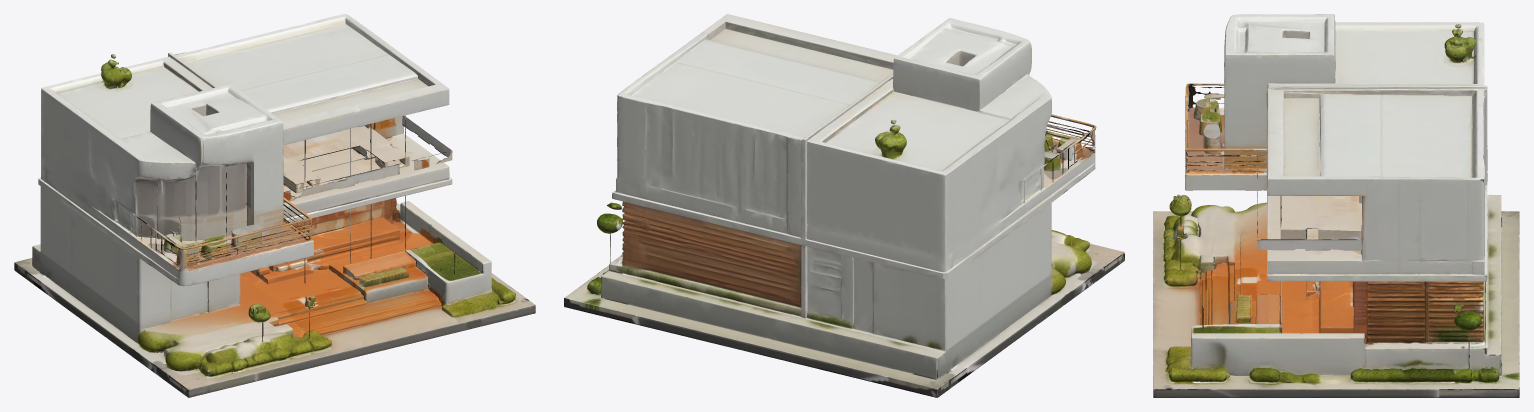
File: house-deck.glb
3 renders of one model, left to right at view 1: azimuth 30°, elevation 25°; view 2: azimuth 150°, elevation 25°; view 3: azimuth 270°, elevation 25°, orthographic. The views are drawn at different scales.
Visible parts, largest first — view 1: model; view 2: model; view 3: model.
Boxes of the visible parts, <box> form: model: <box>14,14,535,397</box>; model: <box>564,14,1124,397</box>; model: <box>1153,14,1519,397</box>.
Size of the model in its own units: 12.6 by 7.65 by 10.95.
1 material, 1 textured.
